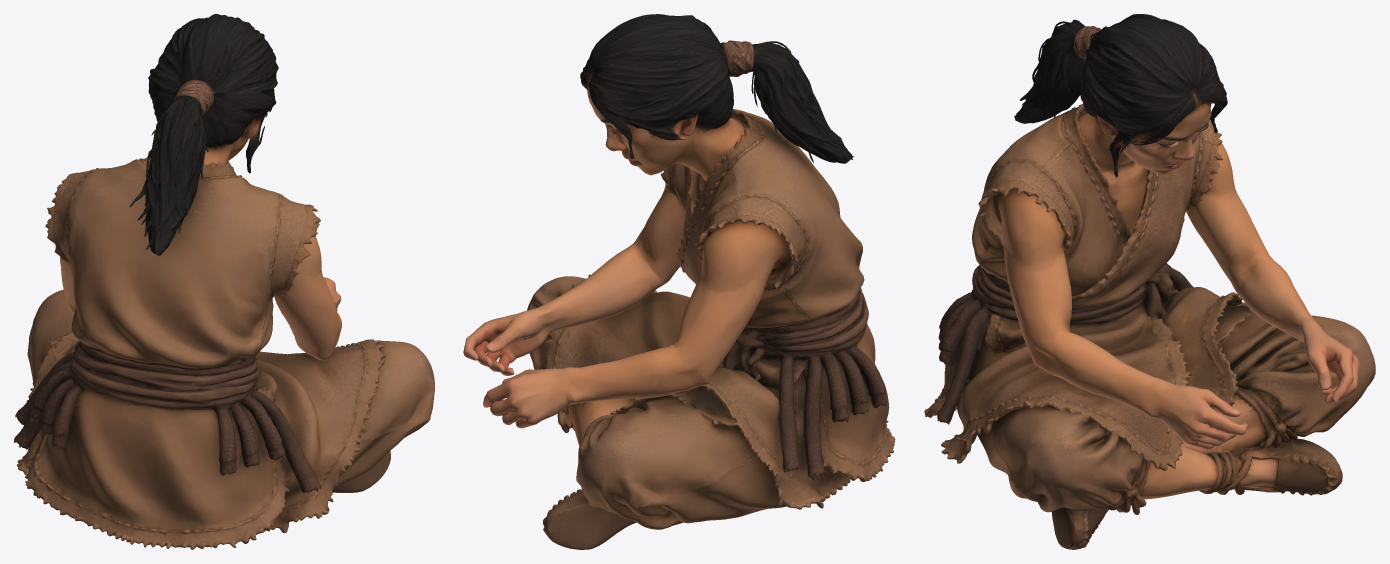
Rendered from seatedGuide-v1.glb.
3 renders of one model, left to right at view 1: azimuth 30°, elevation 25°; view 2: azimuth 150°, elevation 25°; view 3: azimuth 270°, elevation 25°, orthographic.
Parts seen in each view (by area): view 1: tripo_node_c91904a1-0e6b-4fe1-a6ac-c7cf646a44df; view 2: tripo_node_c91904a1-0e6b-4fe1-a6ac-c7cf646a44df; view 3: tripo_node_c91904a1-0e6b-4fe1-a6ac-c7cf646a44df.
Boxes of the visible parts, bbox=[...] form: tripo_node_c91904a1-0e6b-4fe1-a6ac-c7cf646a44df: bbox=[14, 14, 434, 549]; tripo_node_c91904a1-0e6b-4fe1-a6ac-c7cf646a44df: bbox=[463, 14, 895, 549]; tripo_node_c91904a1-0e6b-4fe1-a6ac-c7cf646a44df: bbox=[924, 14, 1375, 549].
Size of the model in its own units: 0.8312 by 1 by 0.8694.
Materials: 1 (1 with a texture image).
